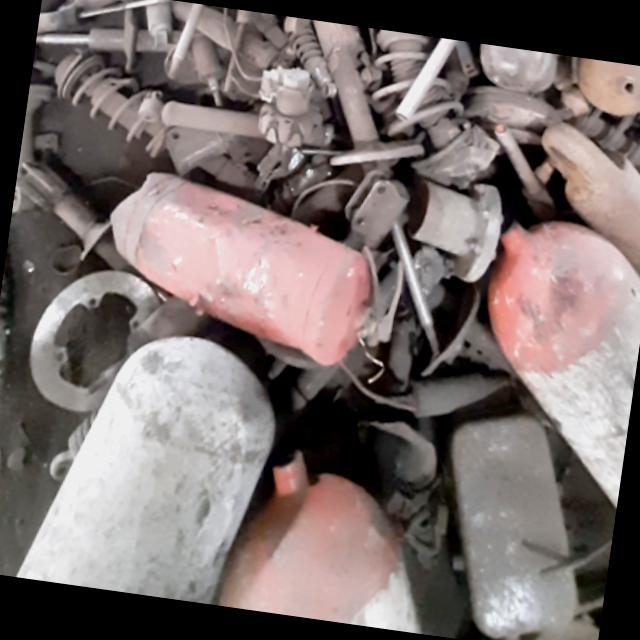Cylinders: (16, 338, 269, 604), (484, 220, 640, 507)
Shock Absorber: (33, 53, 166, 157)
